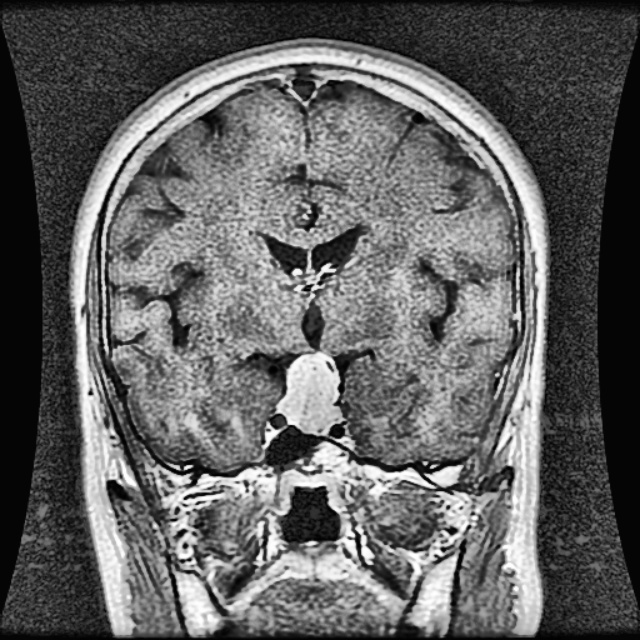Pituitary: (275, 354, 343, 432)
